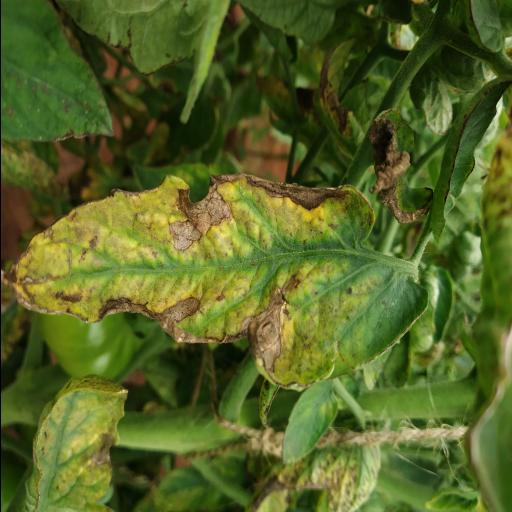Early Blight: (0, 172, 428, 393)
